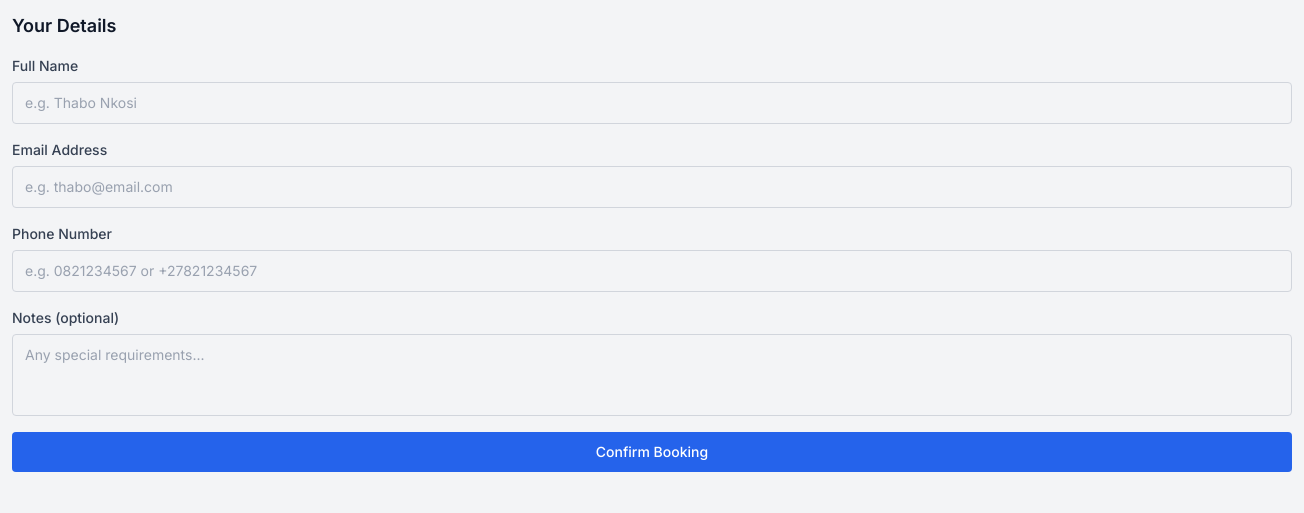
Test case: BookingForm › shows validation error for invalid email on submit
The width and height of the screenshot is (1304, 513).
In the field labelled "Full Name": (652, 103) [12,82,1292,124], type "Thabo Nkosi"
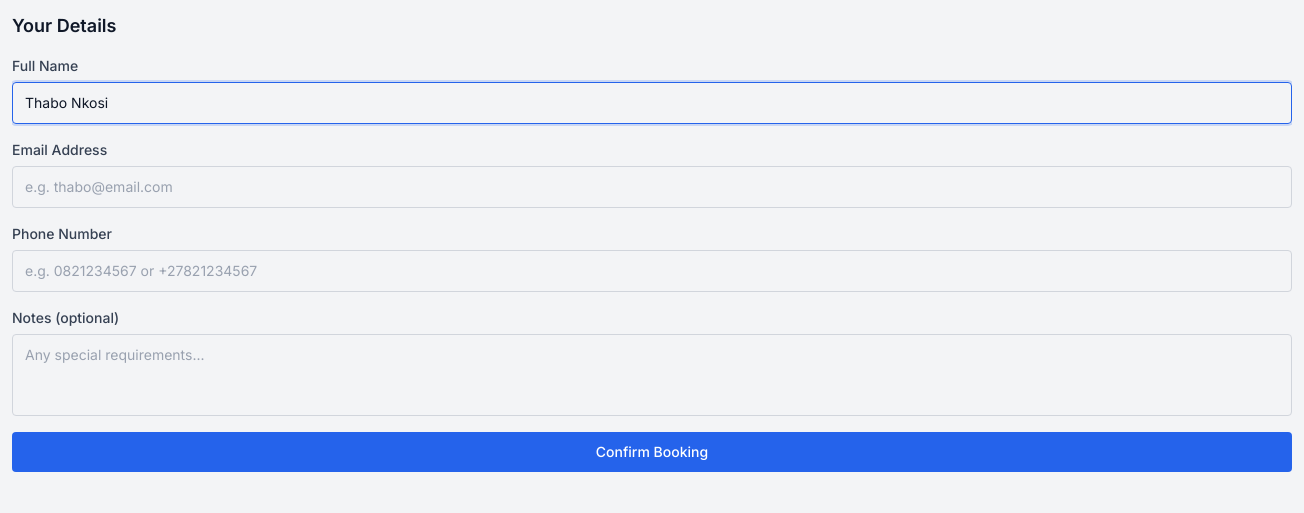
In the field labelled "Email Address": (652, 187) [12,166,1292,208], type "not-an-email"
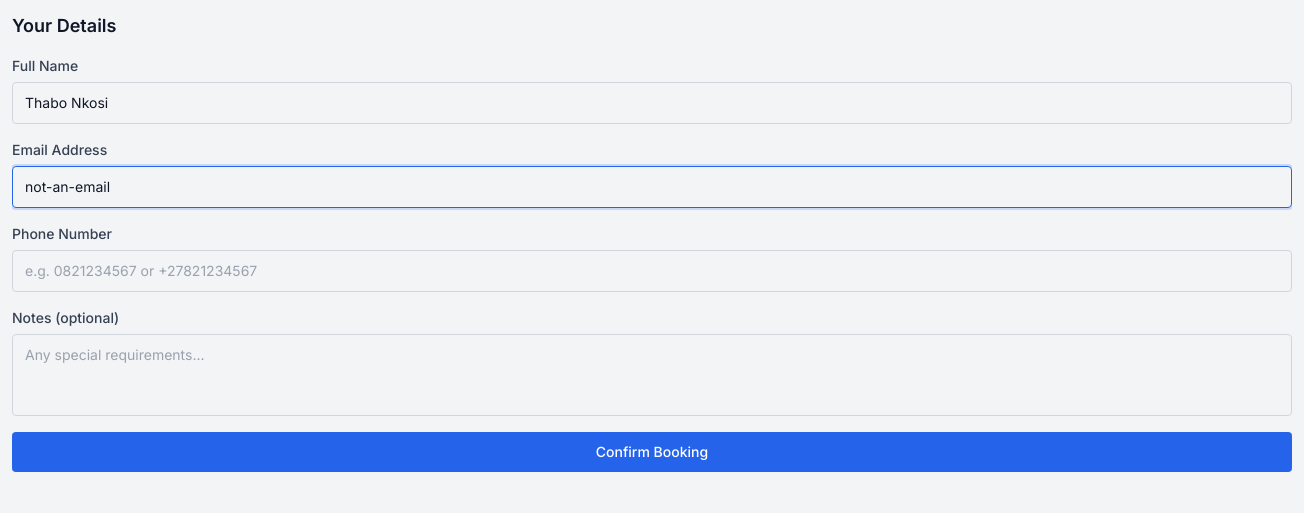
In the field labelled "Phone Number": (652, 271) [12,250,1292,292], type "0821234567"
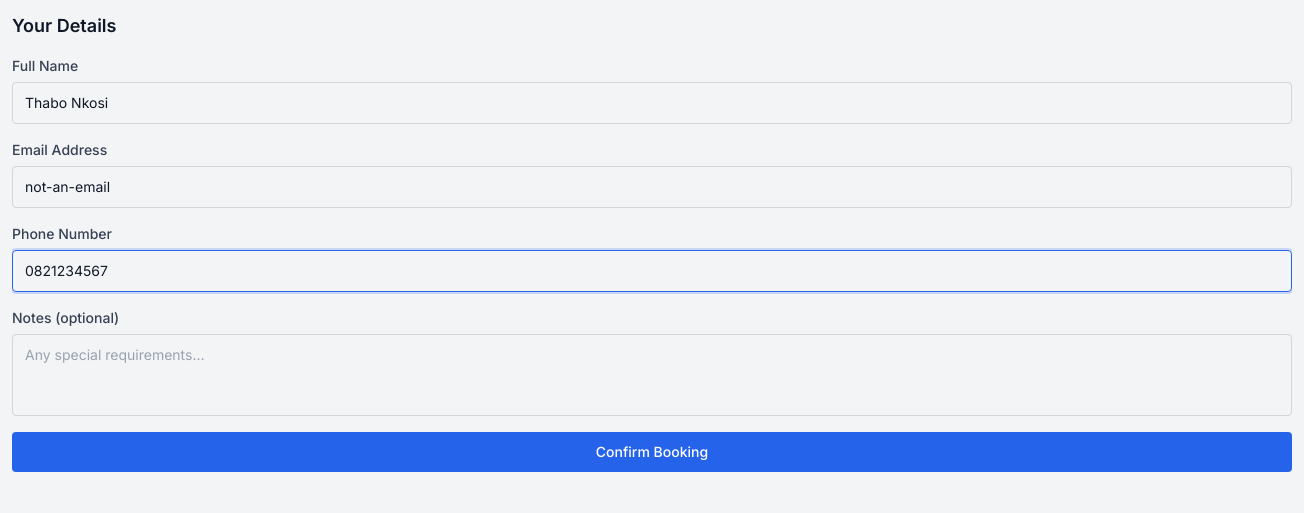
Click the button "Confirm Booking": (652, 452) [12,432,1292,472]
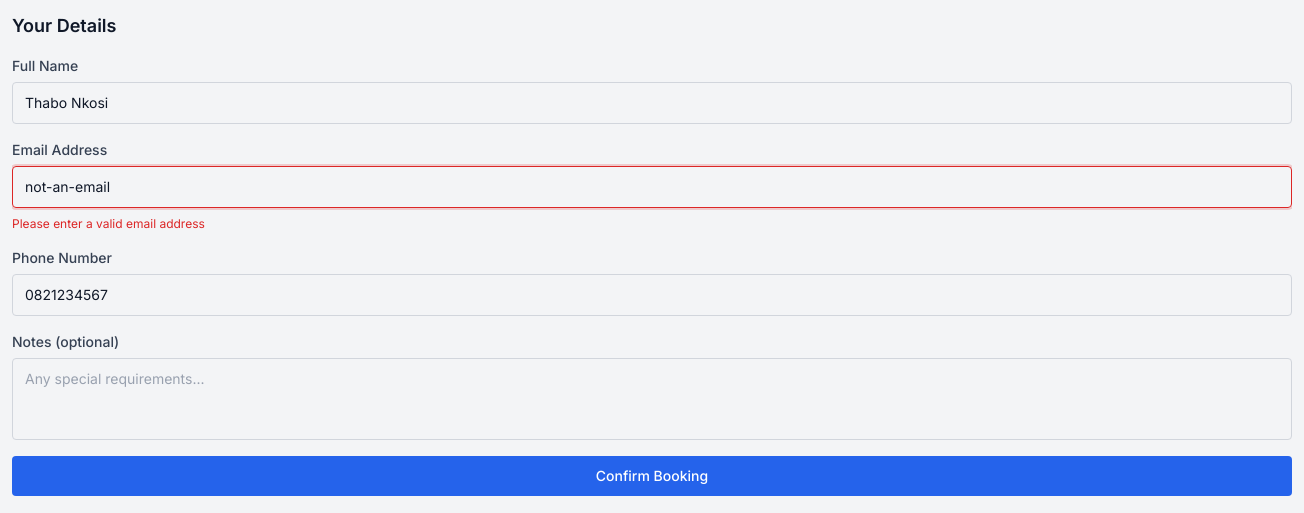
Check: the text "Please enter a valid email address" is shown, box [12,216,205,231]
